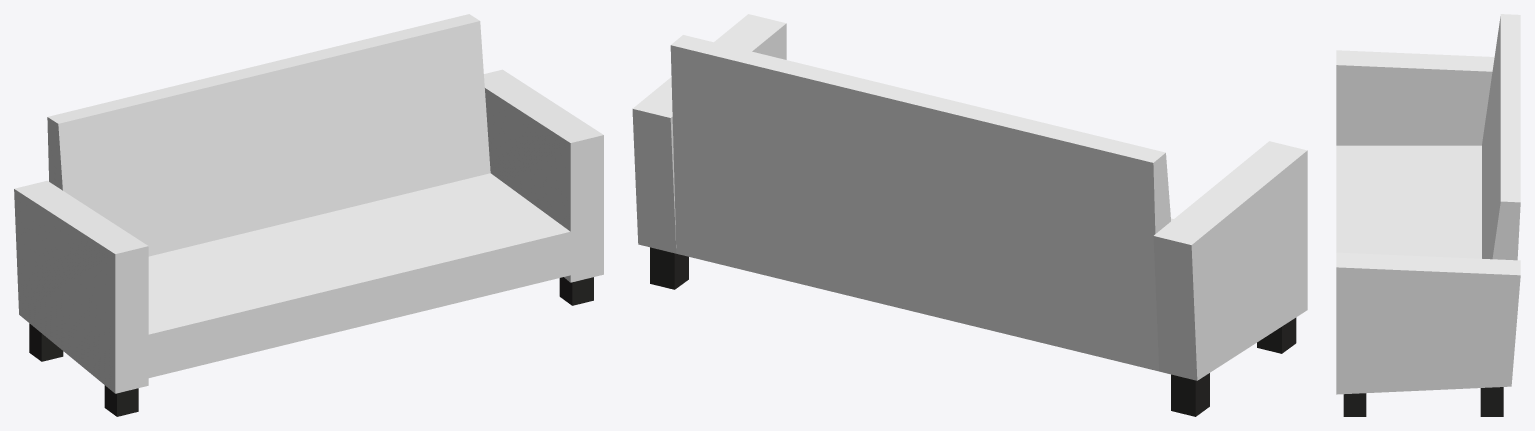
File: Couch_1B.fbx
3 views of the same model, side by side, from view 1: azimuth 30°, elevation 25°; view 2: azimuth 150°, elevation 25°; view 3: azimuth 270°, elevation 25° (orthographic). The views are drawn at different scales.
Visible parts, largest first — view 1: polySurface1529; view 2: polySurface1529; view 3: polySurface1529.
Part boxes in pixels (x1=…): polySurface1529: x1=14, y1=14, x2=603, y2=416; polySurface1529: x1=632, y1=14, x2=1307, y2=416; polySurface1529: x1=1336, y1=14, x2=1520, y2=416.
Size of the model in its own units: 2.93 by 1.28 by 1.05.
Materials: 1 (1 with a texture image).
